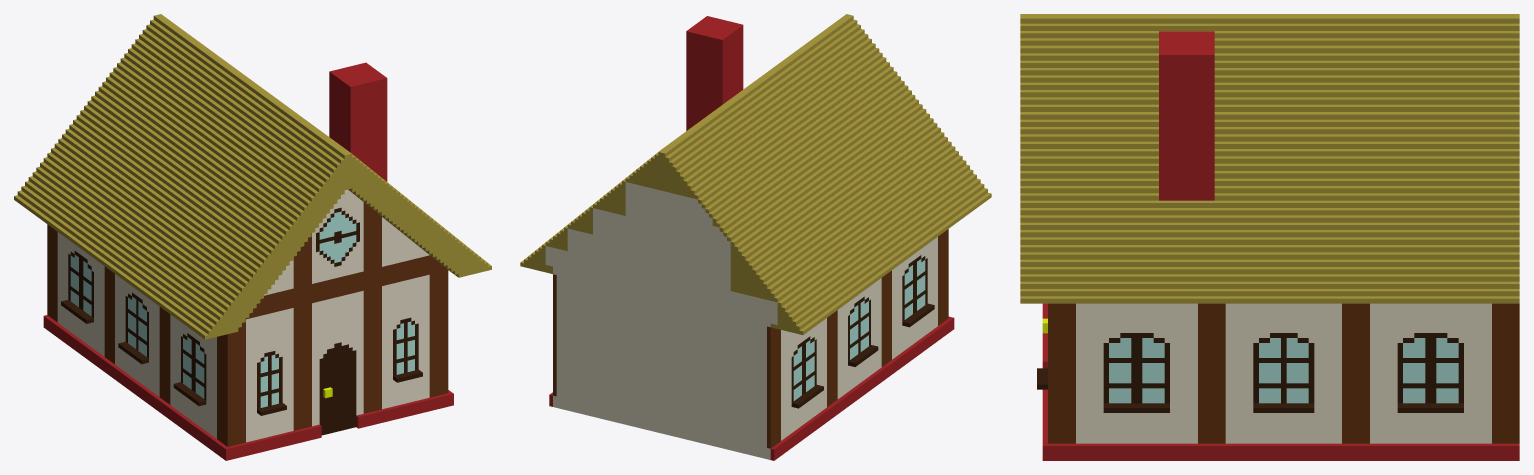
Rendered from house_rhombus.yellow.obj.
The picture shows the model from 3 angles, left to right: view 1: azimuth 30°, elevation 25°; view 2: azimuth 150°, elevation 25°; view 3: azimuth 270°, elevation 25°; orthographic projection. The views are drawn at different scales.
Size of the model in its own units: 7.8 by 7.8 by 9.
Materials: 1 (1 with a texture image).
